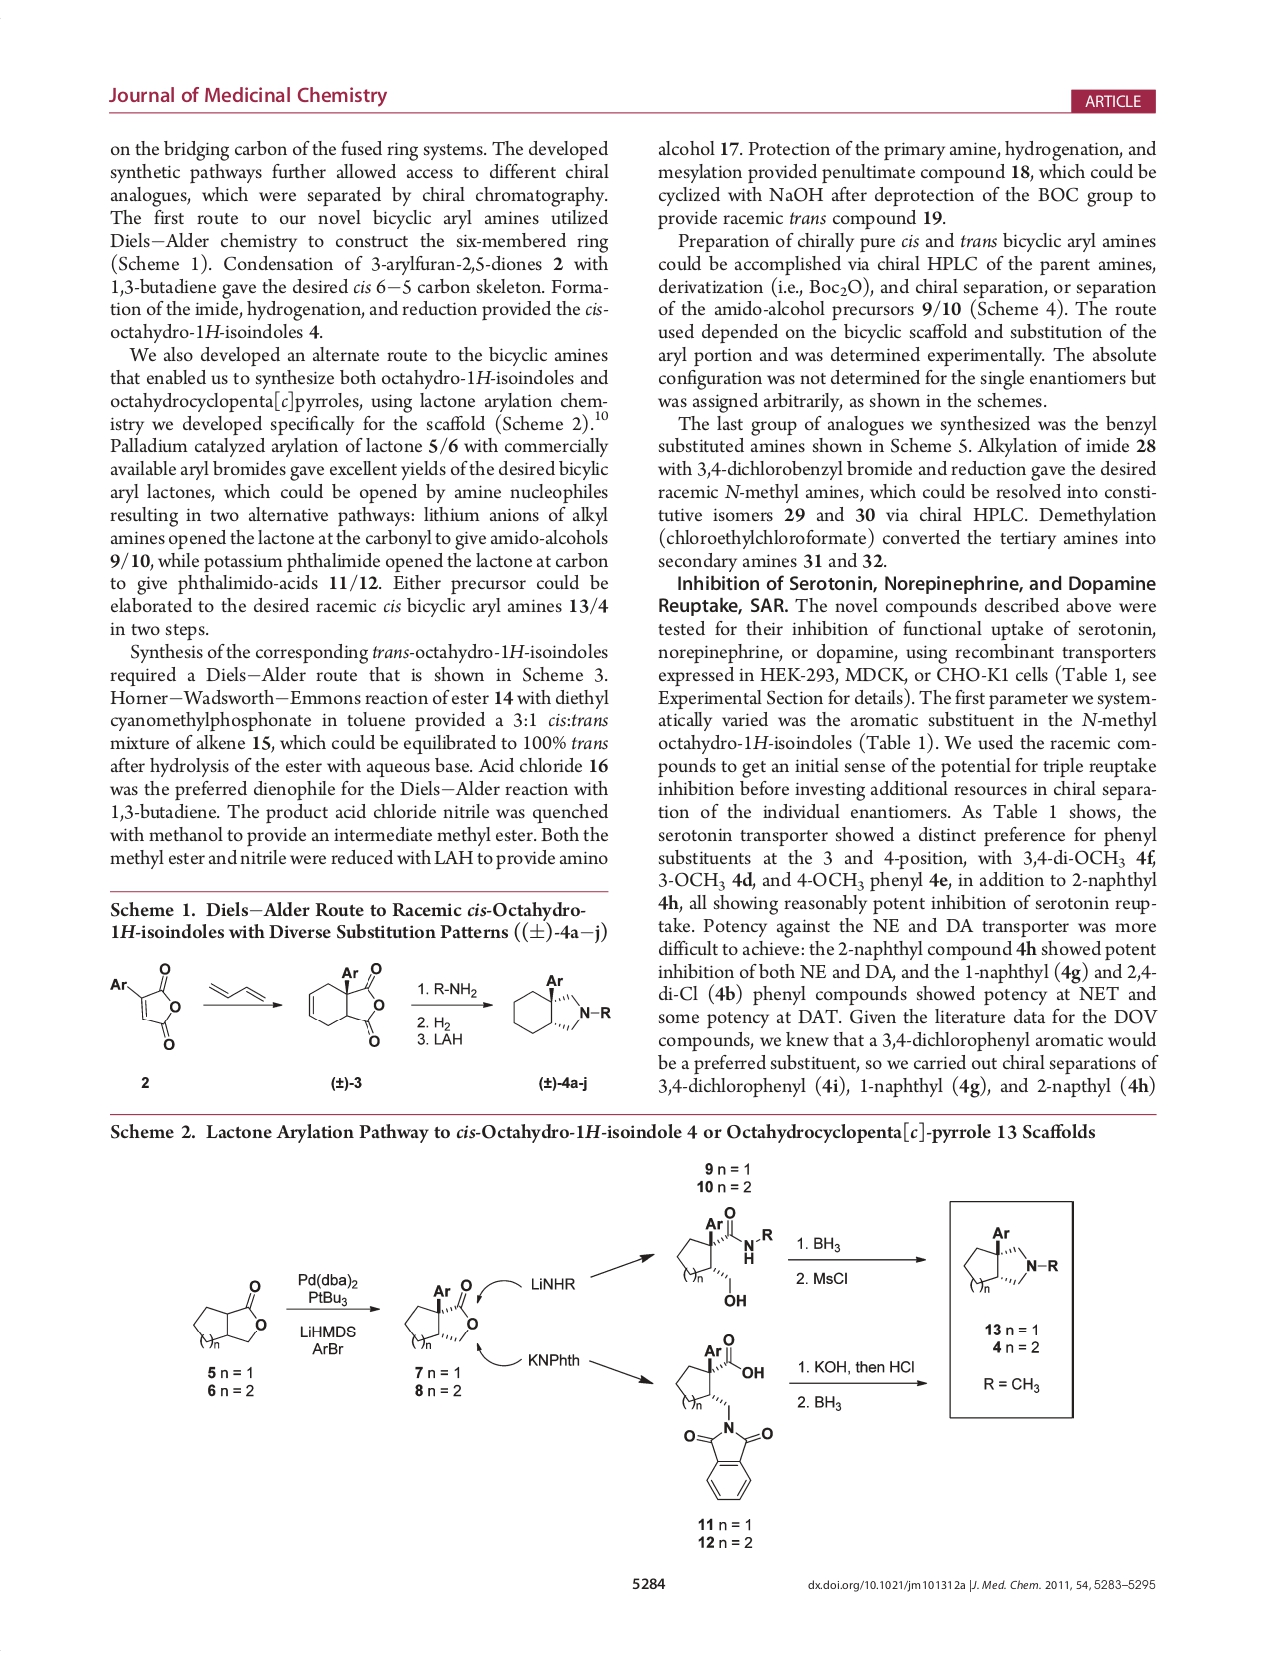exist_molecular: (672, 1329, 775, 1503), (669, 1204, 774, 1311), (303, 958, 391, 1051), (501, 972, 618, 1039), (105, 954, 184, 1052), (959, 1222, 1061, 1297), (188, 1277, 269, 1352), (402, 1274, 480, 1351), (202, 973, 267, 1001)
